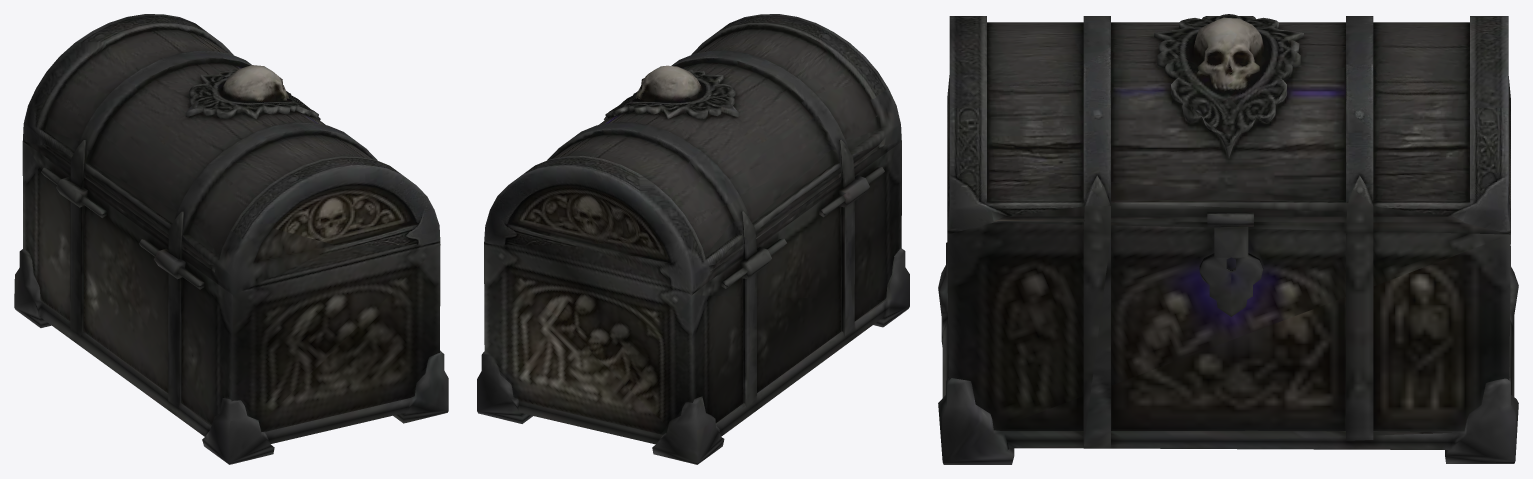
File: reliquary.glb
The picture shows the model from 3 angles, left to right: view 1: azimuth 30°, elevation 25°; view 2: azimuth 150°, elevation 25°; view 3: azimuth 270°, elevation 25°; orthographic projection. The views are drawn at different scales.
Parts seen in each view (by area): view 1: tripo_node_4fdac07e-64e3-46a6-bda5-03134eb0f009; view 2: tripo_node_4fdac07e-64e3-46a6-bda5-03134eb0f009; view 3: tripo_node_4fdac07e-64e3-46a6-bda5-03134eb0f009.
Part boxes in pixels (x1,y1,x2,y2): tripo_node_4fdac07e-64e3-46a6-bda5-03134eb0f009: [14, 14, 448, 464]; tripo_node_4fdac07e-64e3-46a6-bda5-03134eb0f009: [477, 14, 909, 464]; tripo_node_4fdac07e-64e3-46a6-bda5-03134eb0f009: [938, 14, 1518, 464].
Bounding box in the file's own units: 0.6152 × 0.7324 × 0.998.
Materials: 1 (1 with a texture image).
